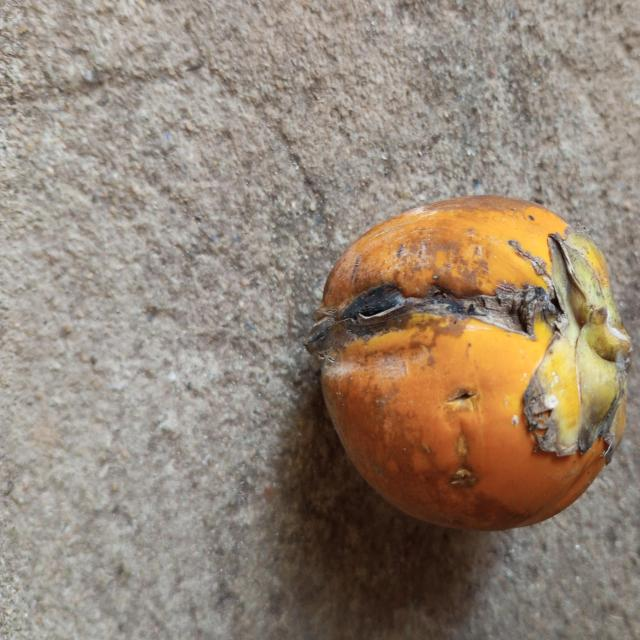damaged: (305, 196, 632, 530)
